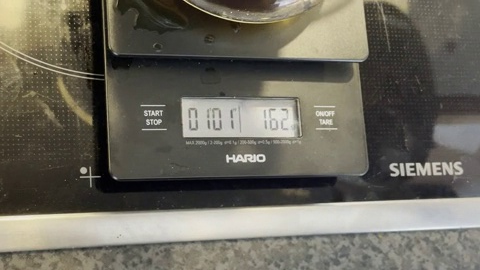display: (181, 96, 298, 136)
